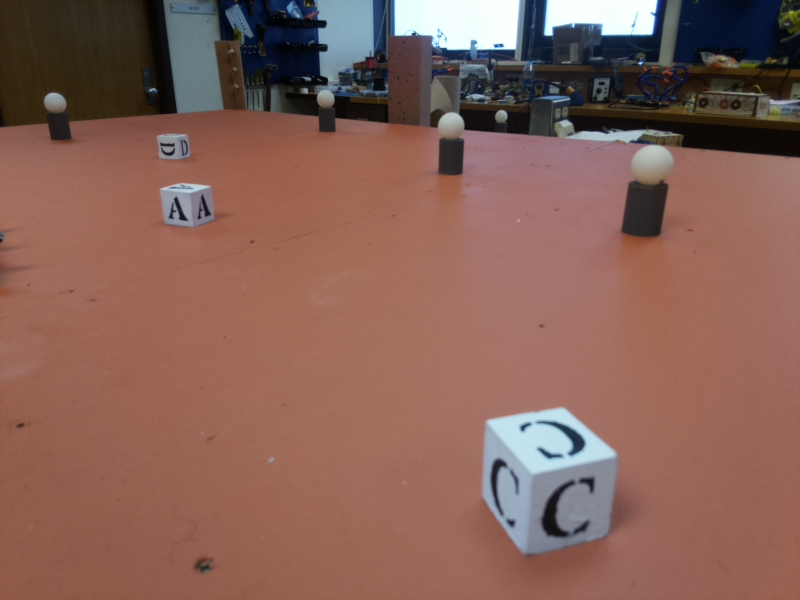blockA: (157, 182, 216, 230)
blockC: (476, 401, 640, 551)
blockD: (158, 132, 193, 160)
corner: (217, 40, 243, 110)
obstacle: (618, 145, 685, 243), (434, 110, 472, 179), (41, 87, 72, 144), (313, 87, 339, 135)
